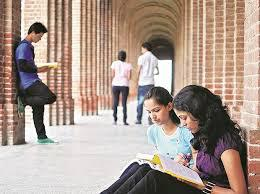Person: (173, 85, 260, 194), (143, 87, 193, 194), (15, 22, 57, 144), (134, 42, 160, 125), (111, 49, 131, 126)
